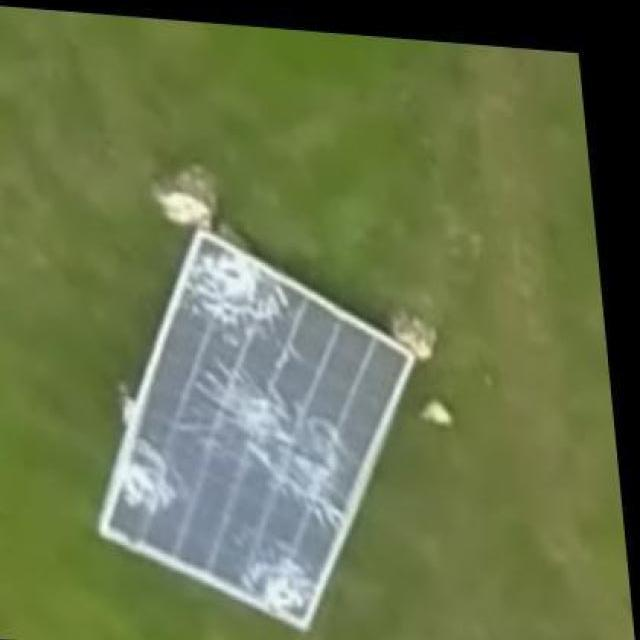cracked: (98, 224, 420, 626)
